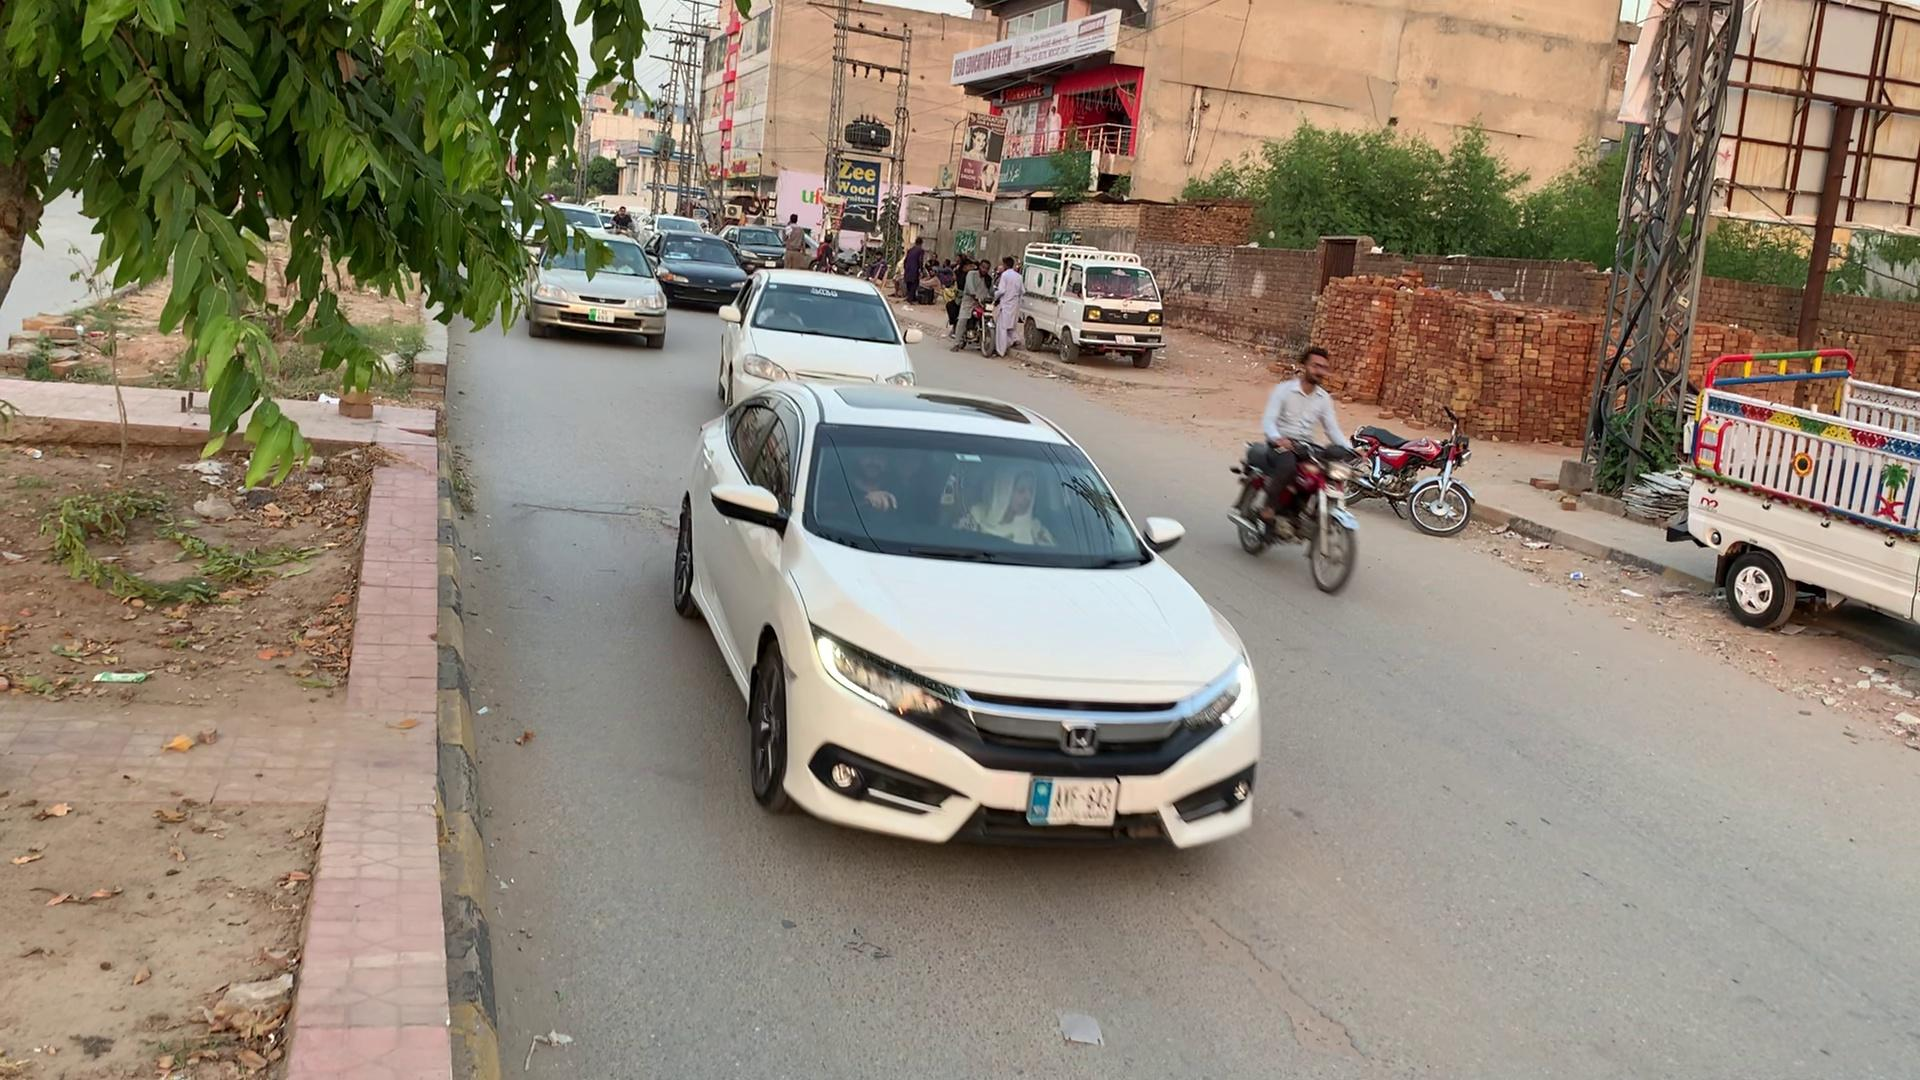windshield: (791, 400, 1178, 567), (745, 272, 906, 345)
